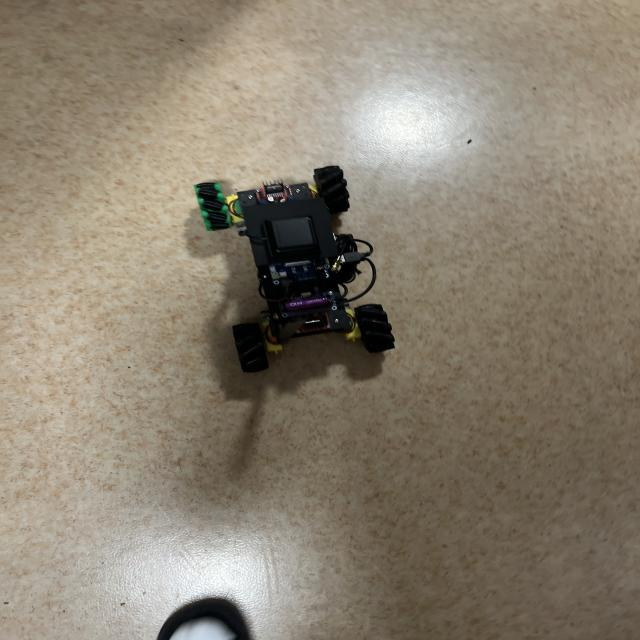robot: (195, 166, 394, 372)
